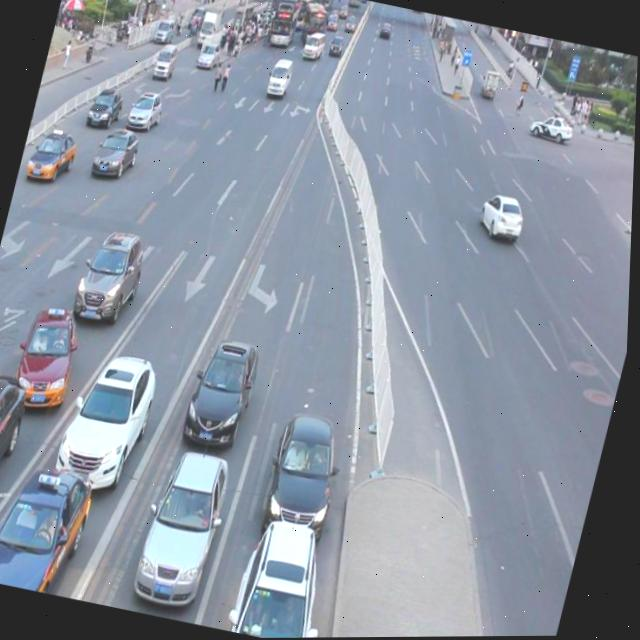car: (53, 338, 168, 497), (133, 441, 239, 613), (0, 452, 103, 598), (230, 509, 343, 639), (260, 403, 355, 540), (181, 329, 268, 453), (71, 219, 155, 327), (11, 299, 90, 412), (0, 363, 36, 520), (25, 126, 81, 187), (90, 123, 143, 183), (475, 189, 529, 243), (85, 84, 128, 132), (125, 86, 167, 135)
